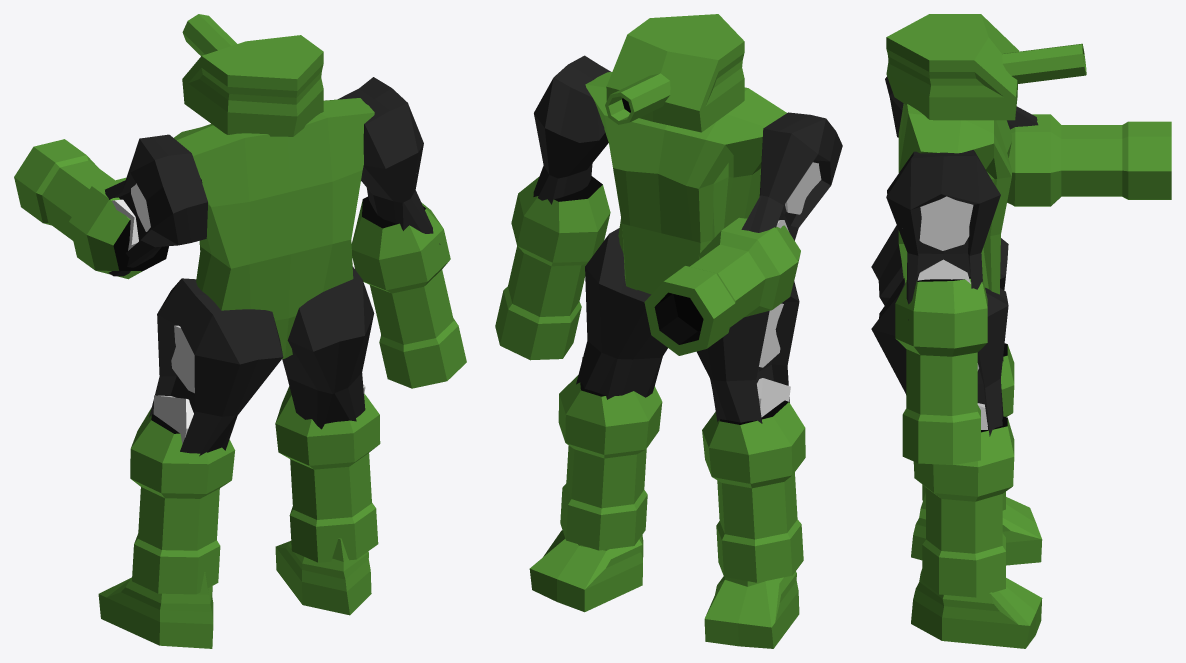
Rendered from tank-man.glb.
3 renders of one model, left to right at view 1: azimuth 30°, elevation 25°; view 2: azimuth 150°, elevation 25°; view 3: azimuth 270°, elevation 25°, orthographic.
Parts seen in each view (by area): view 1: Torso, RUpperLeg, LArmCannon, RLowerLeg, LLowerLeg, Head, LUpperLeg, RArmCannon, RUpperArm, LUpperArm, RFoot, LFoot (+1 smaller); view 2: Torso, RLowerLeg, LArmCannon, LLowerLeg, RArmCannon, Head, LUpperLeg, RUpperLeg, RUpperArm, LUpperArm, LFoot, RFoot (+1 smaller); view 3: LArmCannon, RArmCannon, LLowerLeg, Head, LUpperArm, Torso, LFoot, LUpperLeg, RFoot, Cannon, RUpperLeg, RLowerLeg (+1 smaller).
Boxes of the visible parts, x1=… form: Torso: x1=174, y1=98, x2=374, y2=358; RUpperLeg: x1=149, y1=278, x2=283, y2=456; LArmCannon: x1=351, y1=196, x2=466, y2=388; RLowerLeg: x1=130, y1=408, x2=235, y2=594; LLowerLeg: x1=275, y1=386, x2=380, y2=562; Head: x1=182, y1=35, x2=323, y2=136; LUpperLeg: x1=282, y1=266, x2=374, y2=429; RArmCannon: x1=14, y1=139, x2=168, y2=279; RUpperArm: x1=105, y1=134, x2=207, y2=276; LUpperArm: x1=337, y1=77, x2=440, y2=244; RFoot: x1=98, y1=572, x2=213, y2=648; LFoot: x1=275, y1=538, x2=371, y2=615; Torso: x1=585, y1=72, x2=786, y2=294; RLowerLeg: x1=702, y1=400, x2=805, y2=582; LArmCannon: x1=495, y1=176, x2=610, y2=360; LLowerLeg: x1=558, y1=375, x2=662, y2=550; RArmCannon: x1=644, y1=217, x2=800, y2=355; Head: x1=606, y1=14, x2=744, y2=132; LUpperLeg: x1=576, y1=228, x2=667, y2=399; RUpperLeg: x1=697, y1=281, x2=799, y2=423; RUpperArm: x1=741, y1=112, x2=842, y2=240; LUpperArm: x1=533, y1=55, x2=610, y2=204; LFoot: x1=529, y1=530, x2=643, y2=612; RFoot: x1=704, y1=571, x2=799, y2=648; LArmCannon: x1=895, y1=277, x2=987, y2=464; RArmCannon: x1=1007, y1=114, x2=1171, y2=206; LLowerLeg: x1=913, y1=416, x2=1014, y2=597; Head: x1=886, y1=14, x2=1019, y2=120; LUpperArm: x1=886, y1=149, x2=1000, y2=320; Torso: x1=898, y1=103, x2=1011, y2=294; LFoot: x1=911, y1=569, x2=1042, y2=648; LUpperLeg: x1=871, y1=278, x2=1008, y2=436; RFoot: x1=911, y1=493, x2=1042, y2=565; Cannon: x1=1002, y1=43, x2=1086, y2=83; RUpperLeg: x1=871, y1=225, x2=1008, y2=361; RLowerLeg: x1=922, y1=343, x2=1014, y2=510.
Size of the model in its own units: 3.3 by 5.25 by 2.57.
